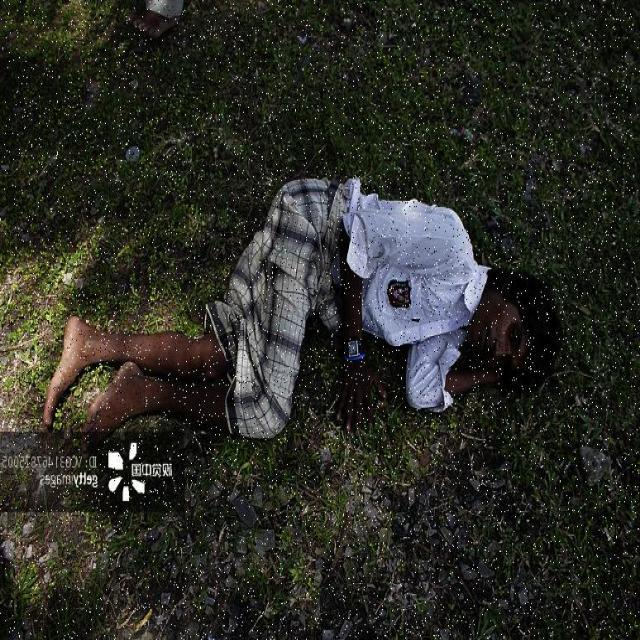fall: (66, 191, 559, 433)
